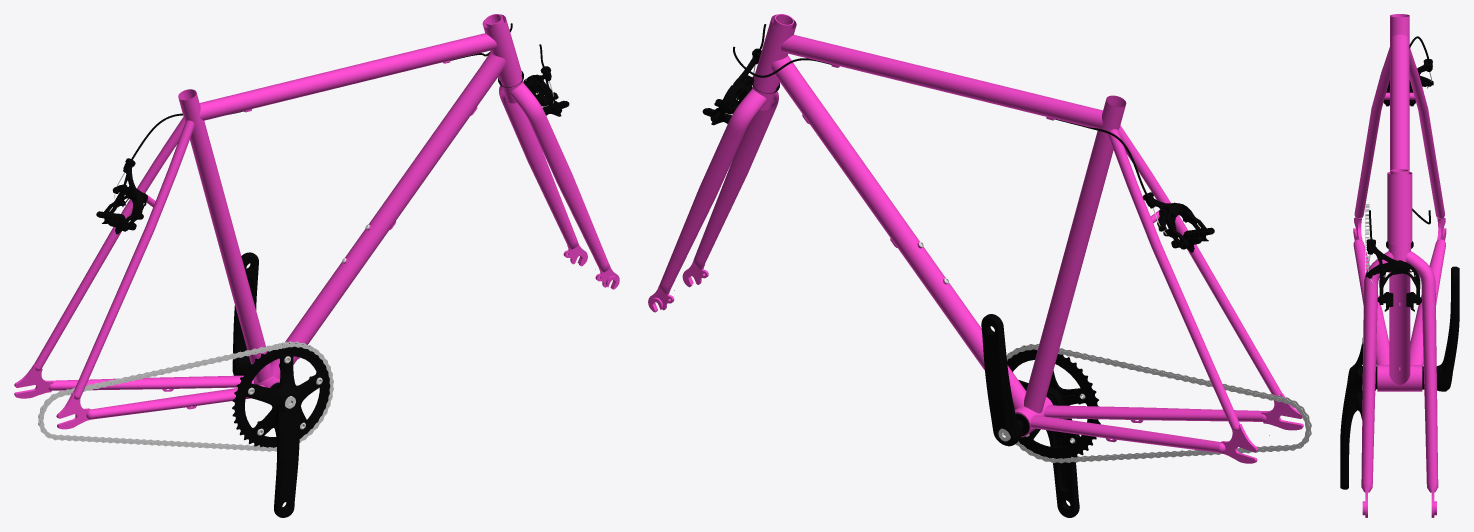
Rendered from Mango_OSS_Frame.glb.
3 renders of one model, left to right at view 1: azimuth 30°, elevation 25°; view 2: azimuth 150°, elevation 25°; view 3: azimuth 270°, elevation 25°, orthographic. The views are drawn at different scales.
Visible parts, largest first — view 1: no_transformations (×7); view 2: no_transformations (×7); view 3: no_transformations (×7).
Boxes of the visible parts, x1,y1,x2,y2 form: no_transformations (×7): (14, 14, 619, 517); no_transformations (×7): (648, 14, 1311, 517); no_transformations (×7): (1340, 14, 1459, 517).
Size of the model in its own units: 1050 by 733 by 180.
